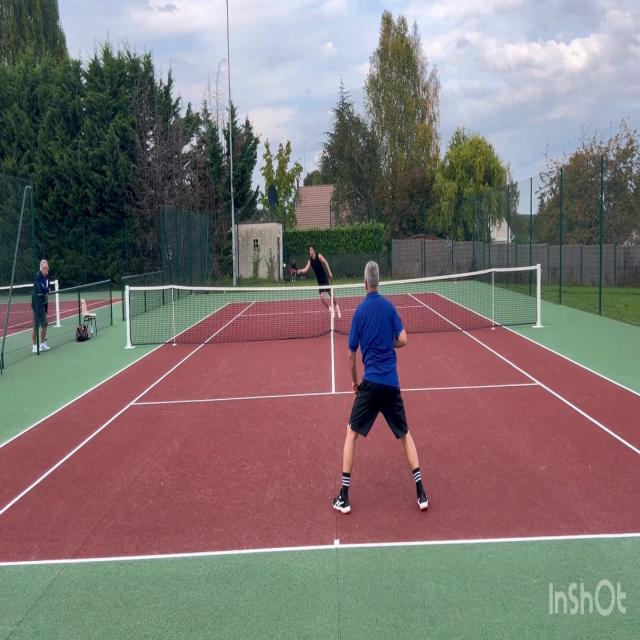ball: (283, 263, 286, 268)
